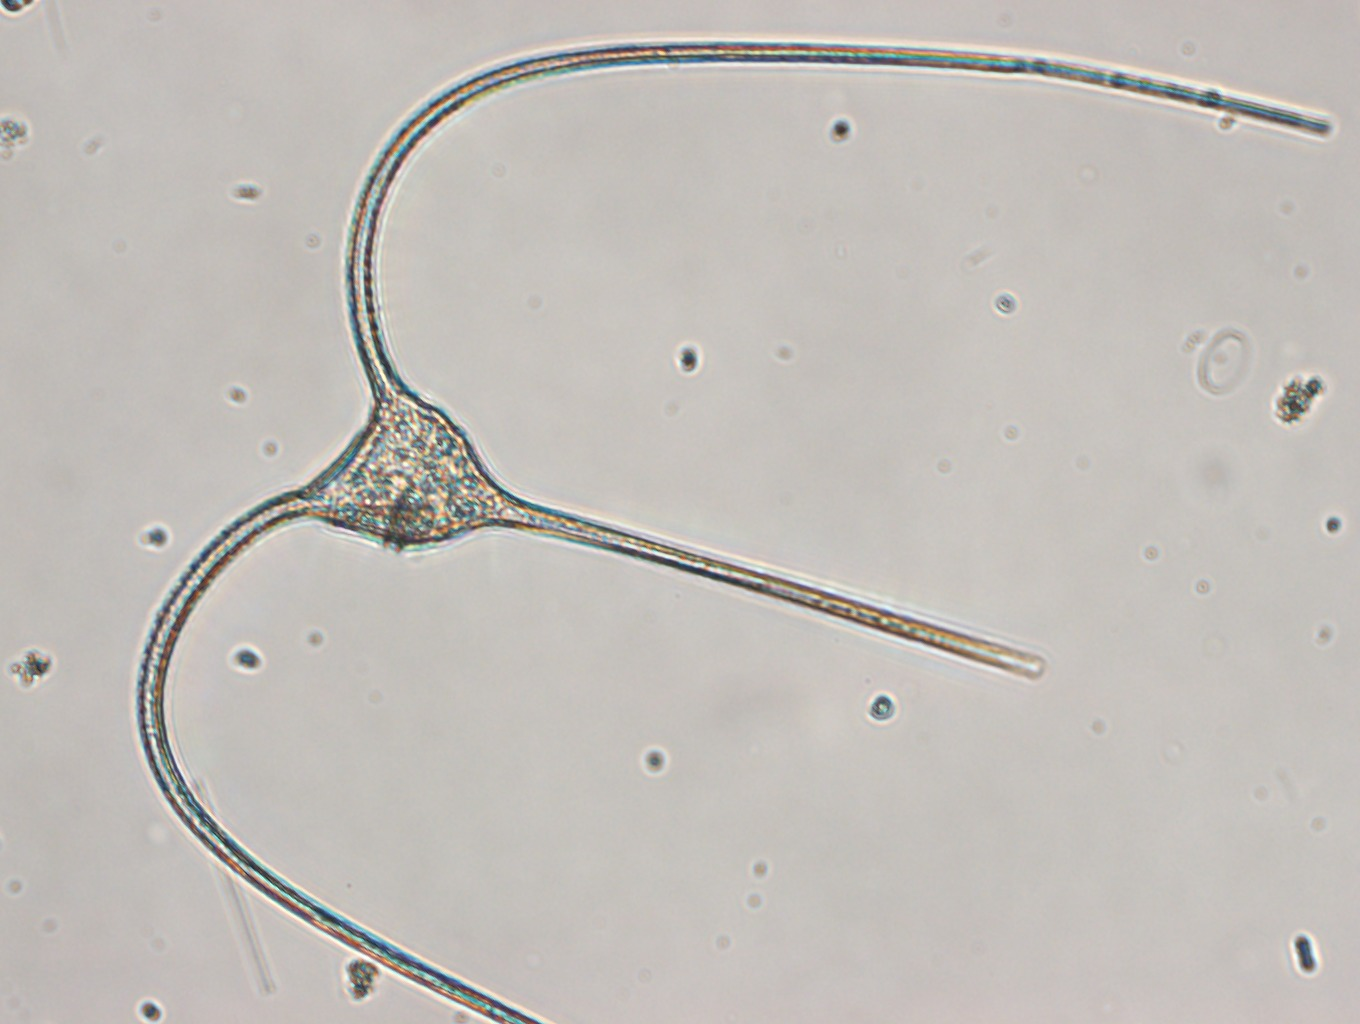ceratium trichoceros: (133, 35, 1360, 1024)
